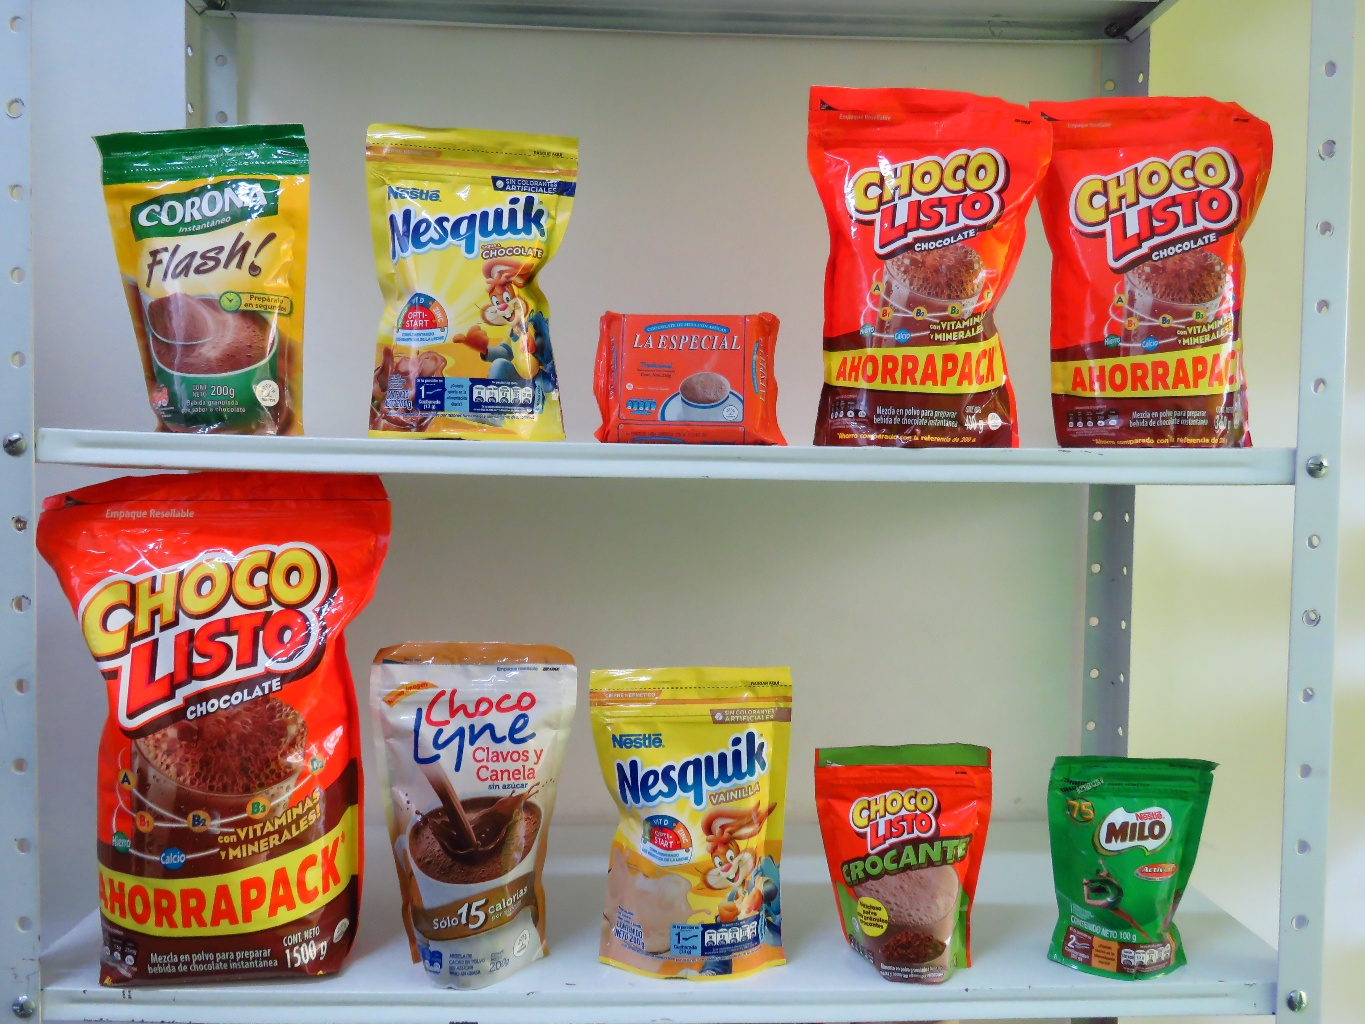COL0170102DYP10000: (790, 731, 1010, 998)
COL0170103DYP1,500: (2, 446, 402, 1015)
COL0170103DYP36000: (1010, 79, 1296, 463)
COL0170103DYP40000: (772, 85, 1063, 454)
COL0170203DYP10000: (1020, 733, 1228, 984)
COL0170303DYP20000: (326, 103, 605, 454)
COL0170306DYP20000: (563, 621, 819, 998)
